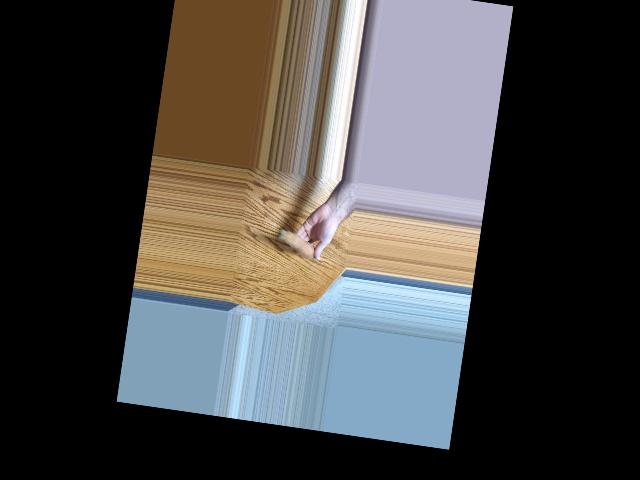sweet_potato: (276, 227, 321, 260)
